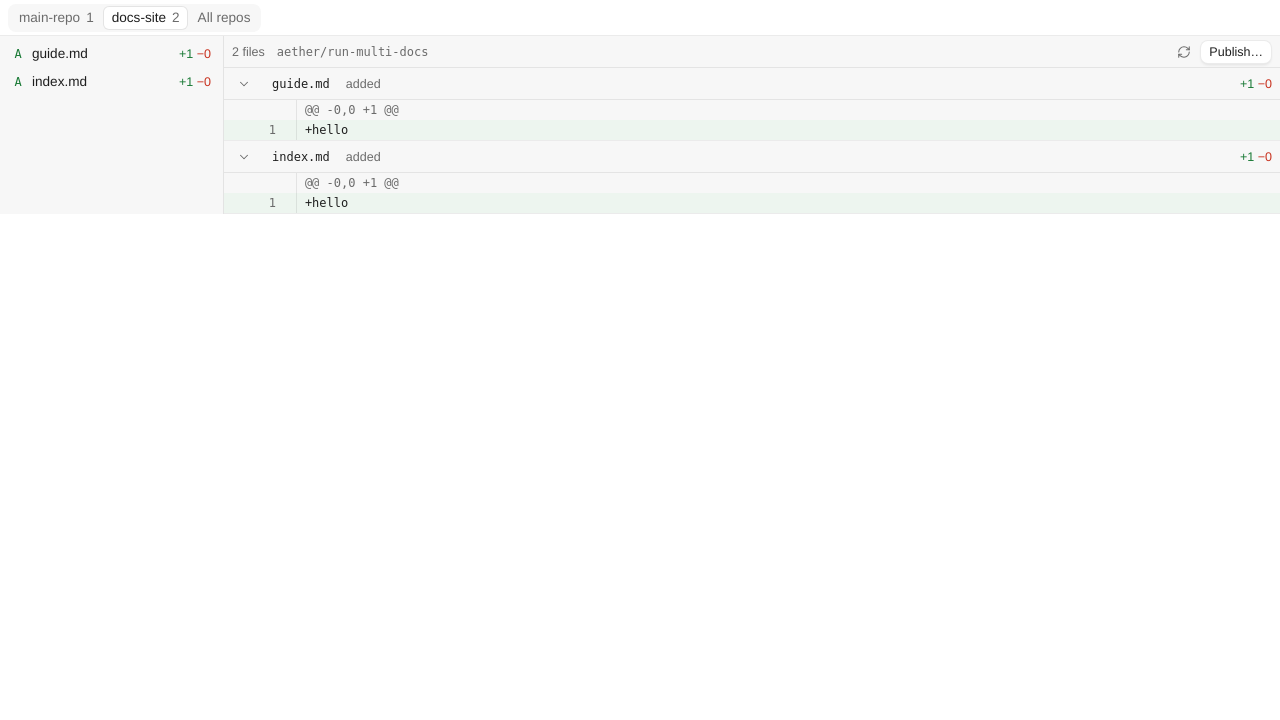
Test: opens Publish for the repo, naming it
This screenshot has width=1280, height=720.
Click the button named "Publish…" at (1236, 52), box x1=1200 y1=40 x2=1272 y2=64
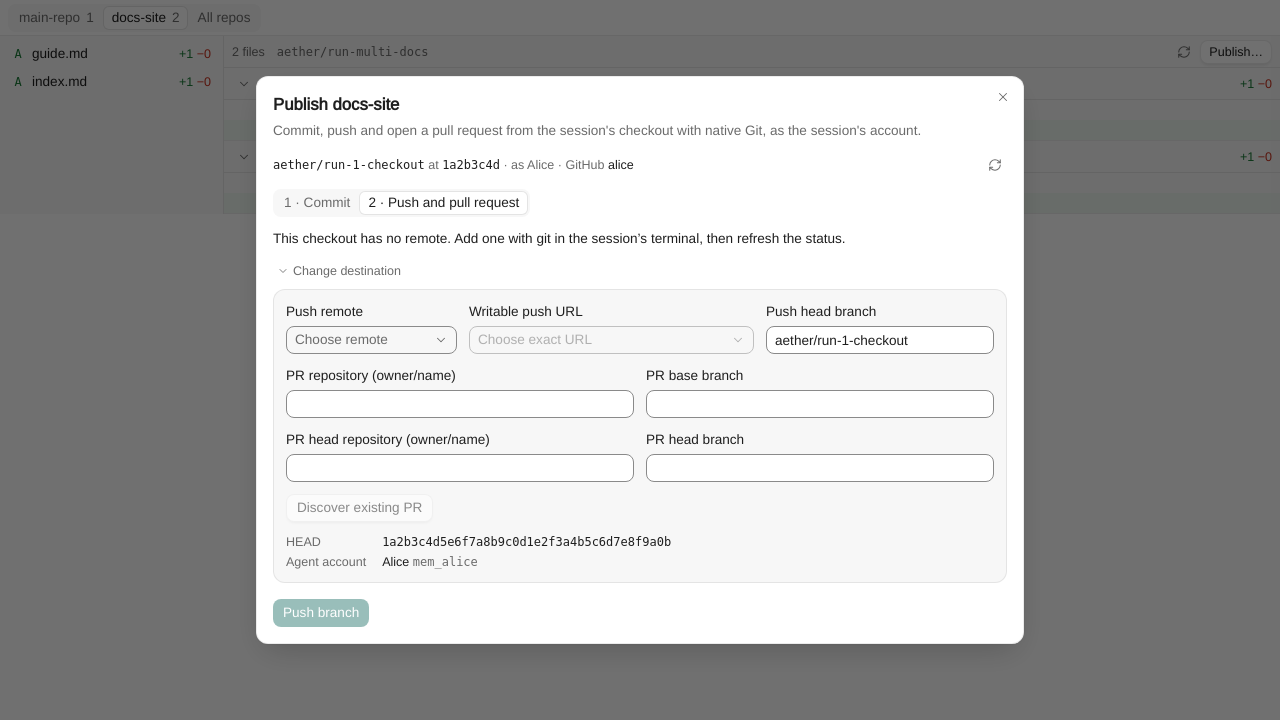
Expected: the dialog named "Publish docs-site" is shown, x1=256 y1=76 x2=1024 y2=644
